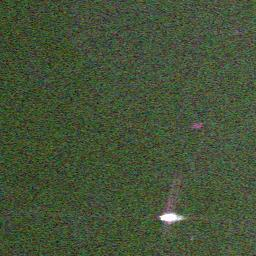Ship: (159, 210, 181, 225)
